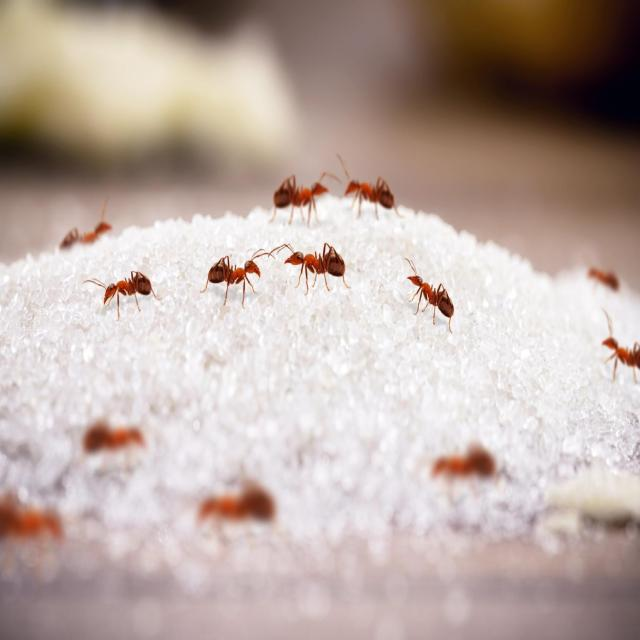ants: (403, 260, 461, 332), (273, 166, 331, 222), (282, 243, 351, 290), (206, 251, 268, 296), (91, 265, 155, 306), (602, 322, 640, 390), (347, 169, 401, 215)
